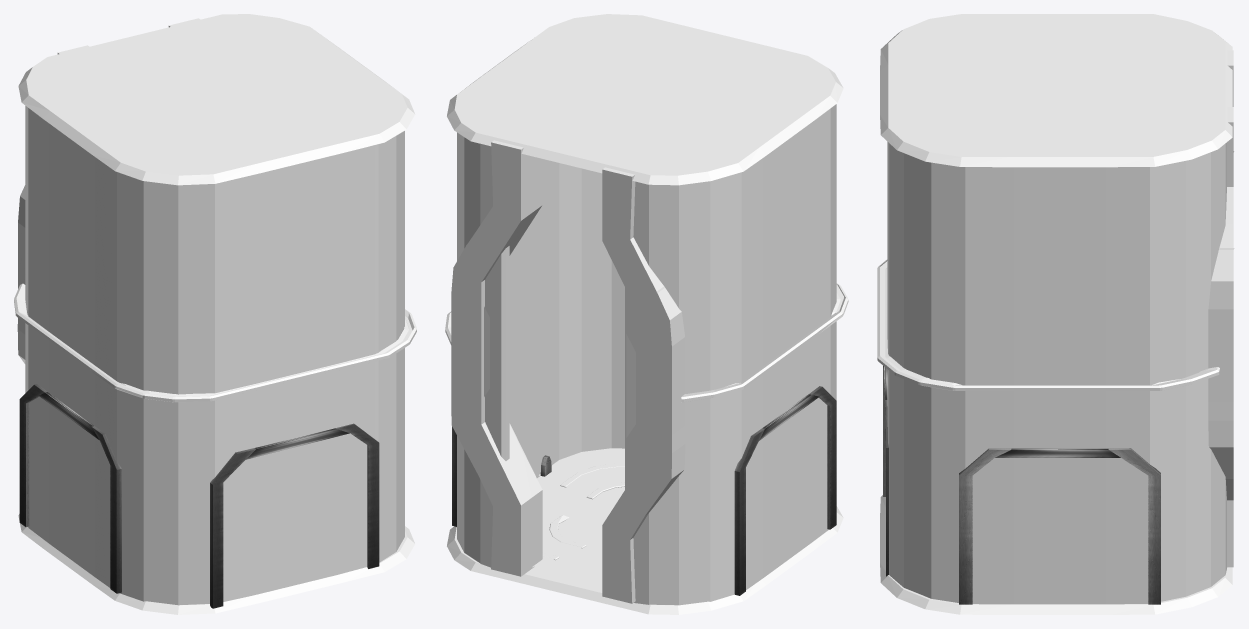
File: openElevator.fbx
The picture shows the model from 3 angles, left to right: view 1: azimuth 30°, elevation 25°; view 2: azimuth 150°, elevation 25°; view 3: azimuth 270°, elevation 25°; orthographic projection. The views are drawn at different scales.
Visible parts, largest first — view 1: pCube16; view 2: pCube16; view 3: pCube16.
Boxes of the visible parts, box(x1,y1,x2,y2) form: pCube16: box(14, 14, 416, 614); pCube16: box(445, 14, 848, 614); pCube16: box(877, 14, 1234, 614).
Bounding box in the file's own units: 6.93 × 9.7 × 6.91.
